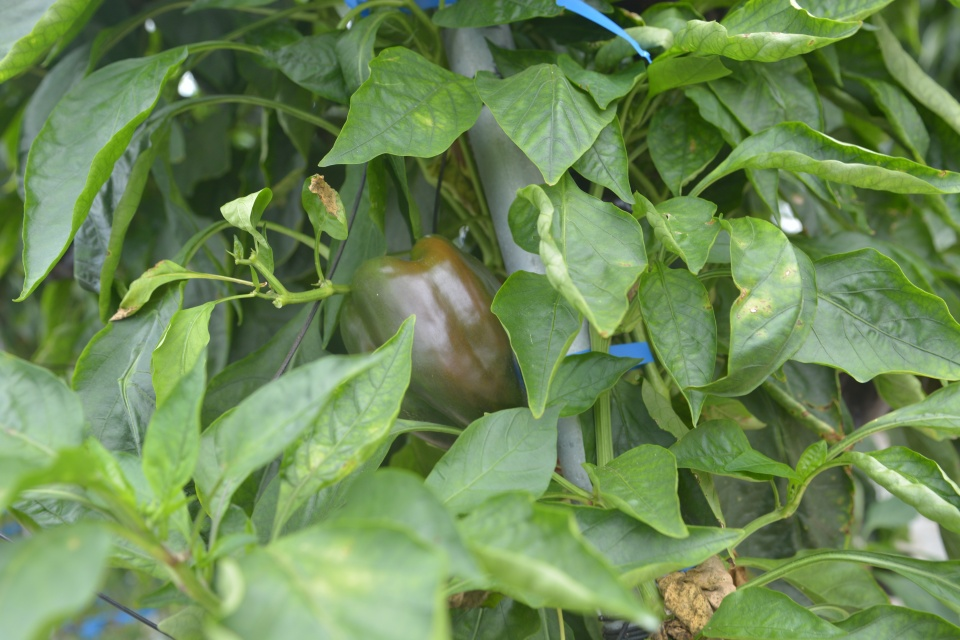fruit: (336, 232, 525, 452)
